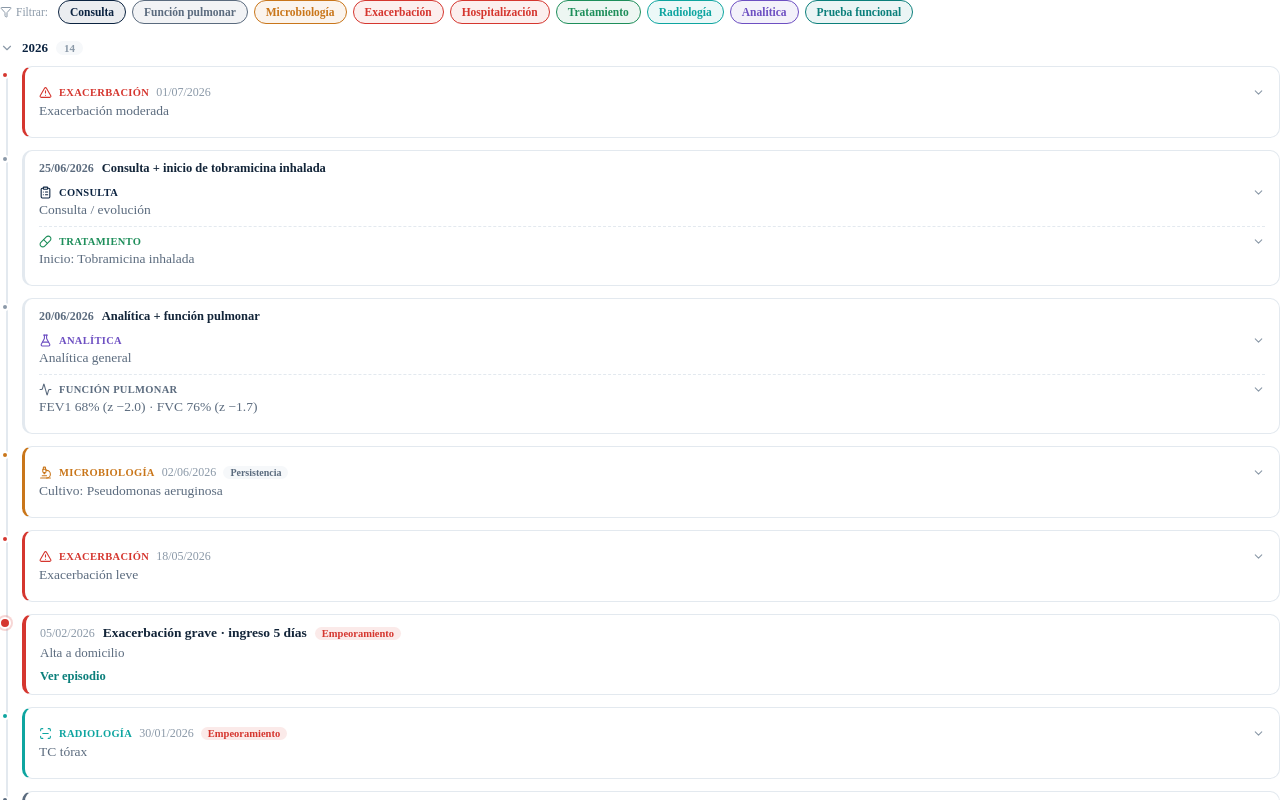
TimelineTab › episodio de ingreso del paciente demo principal (p1, 05/02/2026): motivo, duración, pruebas y tratamiento durante el ingreso — sin soporte respiratorio ni diagn
The image size is (1280, 800).
Expected: the text "Alta a domicilio" is shown, [40,645,124,660]
Step 1. Click the button "Ver episodio" → (73,676), box [40,669,106,684]
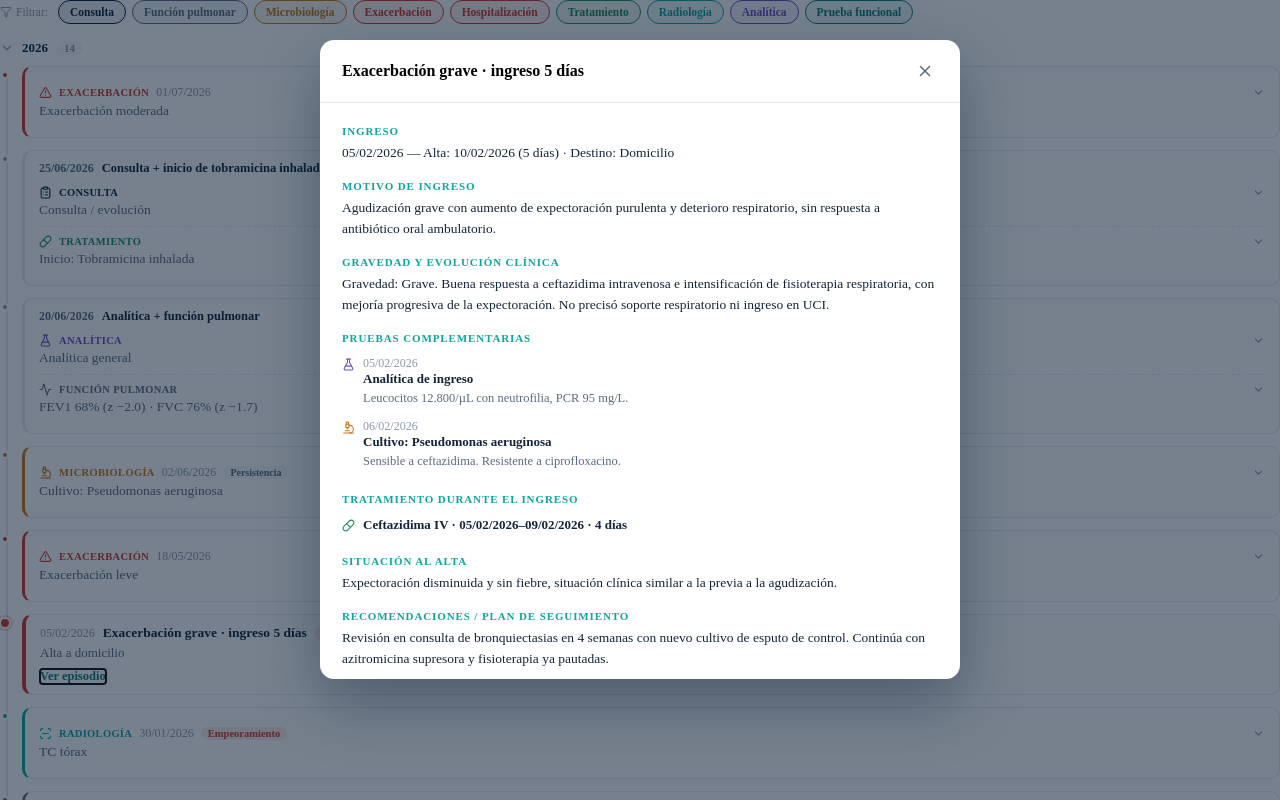
Now the text "aumento de expectoración purulenta" is shown, box [342,200,880,236]
Now the text "Cultivo: Pseudomonas aeruginosa" is shown, box [363,434,552,449]
Now the text "Analítica de ingreso" is shown, box [363,371,473,386]
